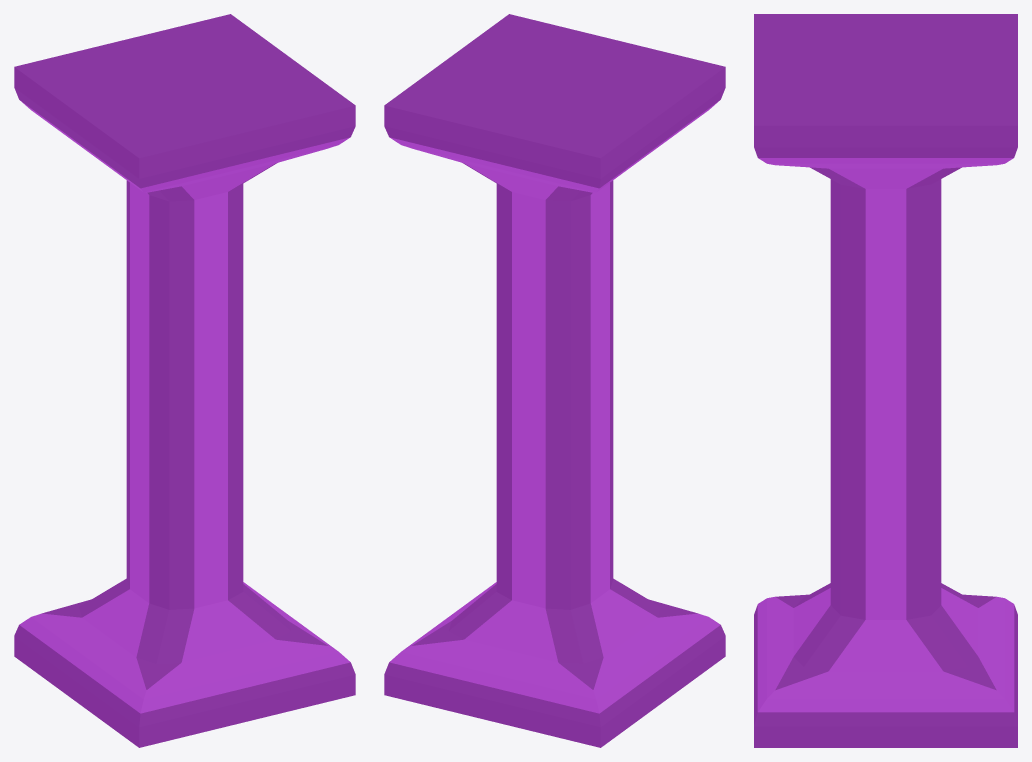
The model's file is pillar.glb.
The picture shows the model from 3 angles, left to right: view 1: azimuth 30°, elevation 25°; view 2: azimuth 150°, elevation 25°; view 3: azimuth 270°, elevation 25°; orthographic projection. The views are drawn at different scales.
Parts seen in each view (by area): view 1: pillier; view 2: pillier; view 3: pillier.
Boxes of the visible parts, <box> form: pillier: <box>14,14,355,747</box>; pillier: <box>384,14,725,747</box>; pillier: <box>754,14,1017,747</box>.
Size of the model in its own units: 2 by 5.2 by 2.
